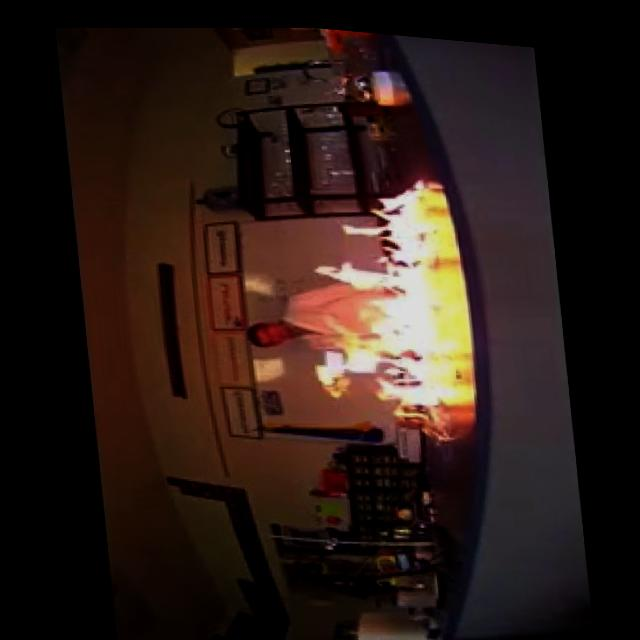helmet: (287, 153, 451, 434)
